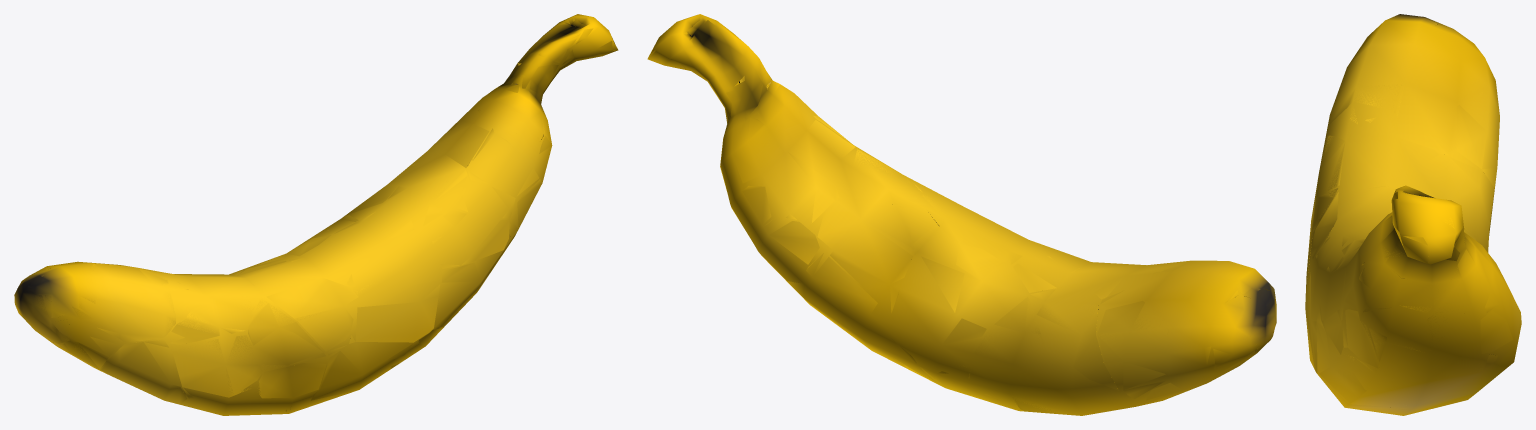
File: Banana_Broken.fbx
3 views of the same model, side by side, from view 1: azimuth 30°, elevation 25°; view 2: azimuth 150°, elevation 25°; view 3: azimuth 270°, elevation 25° (orthographic). The views are drawn at different scales.
Visible parts, largest first — view 1: Cube, Cube_cell.123, Cube_cell.057, Cube_cell.164, Cube_cell.145, Cube_cell.030, Cube_cell.004, Cube_cell.111, Cube_cell.140, Cube_cell.091, Cube_cell.081, Cube_cell.157 (+8 smaller); view 2: Cube, Cube_cell.063, Cube_cell.109, Cube_cell.136, Cube_cell.096, Cube_cell.072, Cube_cell.135, Cube_cell.152, Cube_cell.051, Cube_cell.149, Cube_cell.064, Cube_cell.180 (+3 smaller); view 3: Cube, Cube_cell.123, Cube_cell.109, Cube_cell.143, Cube_cell.068, Cube_cell.111, Cube_cell.171, Cube_cell.136, Cube_cell.057, Cube_cell.081, Cube_cell.149, Cube_cell.145 (+4 smaller).
Boxes of the visible parts, x1,y1,x2,y2 form: Cube: (14,14,618,415); Cube_cell.123: (90,263,175,342); Cube_cell.057: (266,277,358,355); Cube_cell.164: (172,335,262,398); Cube_cell.145: (349,284,440,343); Cube_cell.030: (101,339,186,404); Cube_cell.004: (258,363,326,409); Cube_cell.111: (169,274,256,344); Cube_cell.140: (311,344,412,400); Cube_cell.091: (248,299,325,369); Cube_cell.081: (432,209,509,268); Cube_cell.157: (19,290,69,343); Cube: (647,14,1276,415); Cube_cell.063: (817,202,912,312); Cube_cell.109: (1097,290,1166,398); Cube_cell.136: (1030,289,1118,390); Cube_cell.096: (942,243,1004,367); Cube_cell.072: (806,253,877,314); Cube_cell.135: (968,296,1066,414); Cube_cell.152: (764,219,819,264); Cube_cell.051: (921,256,964,312); Cube_cell.149: (723,117,764,183); Cube_cell.064: (786,152,839,222); Cube_cell.180: (853,148,922,205); Cube: (1305,14,1521,415); Cube_cell.123: (1328,35,1401,125); Cube_cell.109: (1423,105,1497,187); Cube_cell.143: (1316,309,1366,403); Cube_cell.068: (1342,309,1379,368); Cube_cell.111: (1316,135,1438,194); Cube_cell.171: (1480,279,1513,353); Cube_cell.136: (1443,157,1494,224); Cube_cell.057: (1306,192,1338,295); Cube_cell.081: (1319,257,1343,354); Cube_cell.149: (1451,232,1504,312); Cube_cell.145: (1305,255,1317,372).
Size of the model in its own units: 83.54 by 40.18 by 20.83.
Materials: 1 (1 with a texture image).
